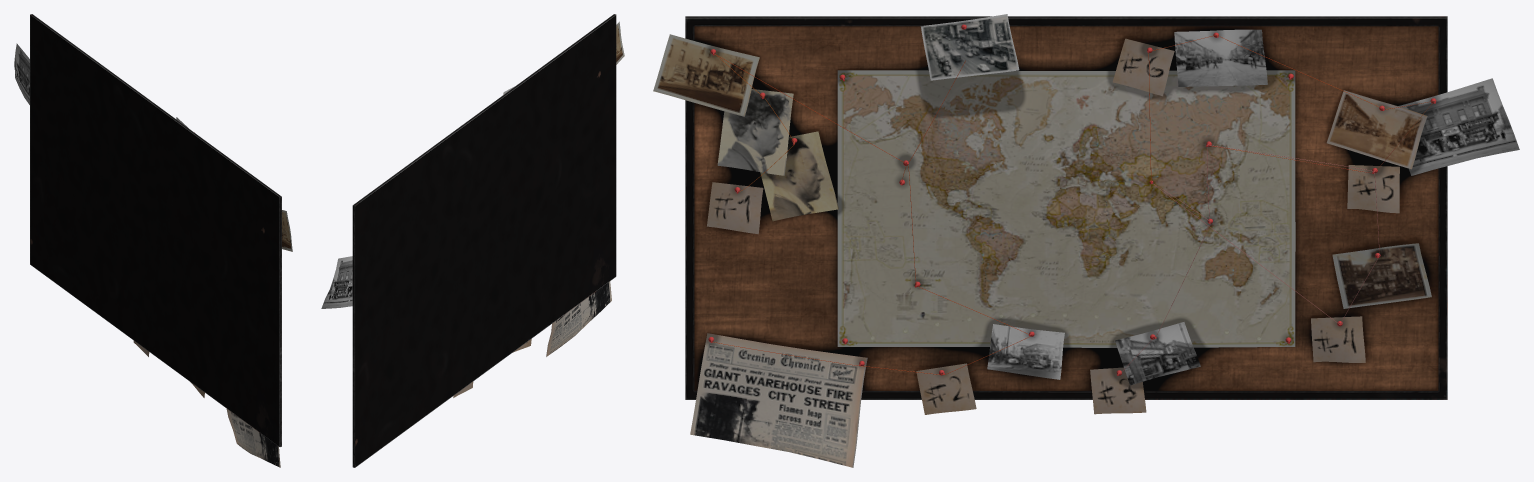
Rendered from board_background.glb.
3 renders of one model, left to right at view 1: azimuth 30°, elevation 25°; view 2: azimuth 150°, elevation 25°; view 3: azimuth 270°, elevation 25°, orthographic. The views are drawn at different scales.
Parts seen in each view (by area): view 1: Cube.099__0, Plane.062__0, Plane.070__0, Plane.067__0; view 2: Cube.099__0, Plane.062__0, Plane.070__0; view 3: Plane.058__0, Cube.099__0, Plane.062__0, Plane.070__0, Plane.067__0, Plane.061__0, Plane.069__0, Plane.072__0, Plane.071__0, Plane.059__0, Plane.060__0, Plane.066__0 (+7 smaller).
Boxes of the visible parts, <box> form: Cube.099__0: <box>30,14,281,446</box>; Plane.062__0: <box>226,409,280,467</box>; Plane.070__0: <box>14,43,29,104</box>; Plane.067__0: <box>282,210,292,251</box>; Cube.099__0: <box>352,14,616,467</box>; Plane.062__0: <box>546,281,611,356</box>; Plane.070__0: <box>321,256,352,308</box>; Plane.058__0: <box>837,70,1295,347</box>; Cube.099__0: <box>685,16,1447,399</box>; Plane.062__0: <box>690,333,867,467</box>; Plane.070__0: <box>1398,78,1519,175</box>; Plane.067__0: <box>653,34,759,116</box>; Plane.061__0: <box>920,14,1019,80</box>; Plane.069__0: <box>1326,90,1427,169</box>; Plane.072__0: <box>1174,29,1267,86</box>; Plane.071__0: <box>1332,243,1431,308</box>; Plane.059__0: <box>717,89,793,175</box>; Plane.060__0: <box>760,131,838,221</box>; Plane.066__0: <box>1115,322,1200,385</box>.
Bounding box in the file's own units: 0.059 × 1.36 × 2.4.
1 material, 1 textured.
